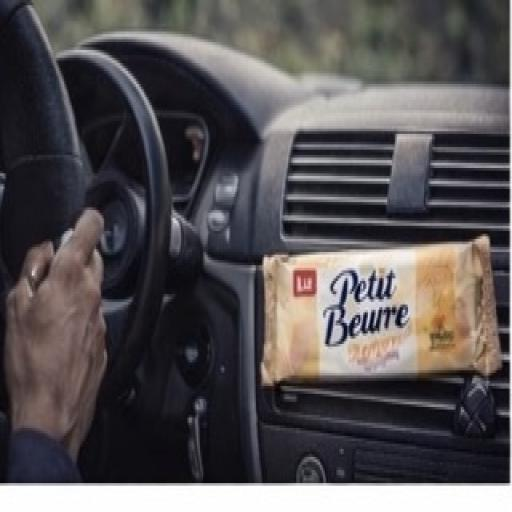petit_beurre: (235, 198, 512, 456)
